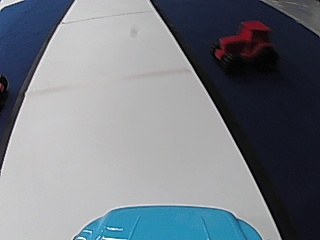tractor: (207, 19, 279, 74)
